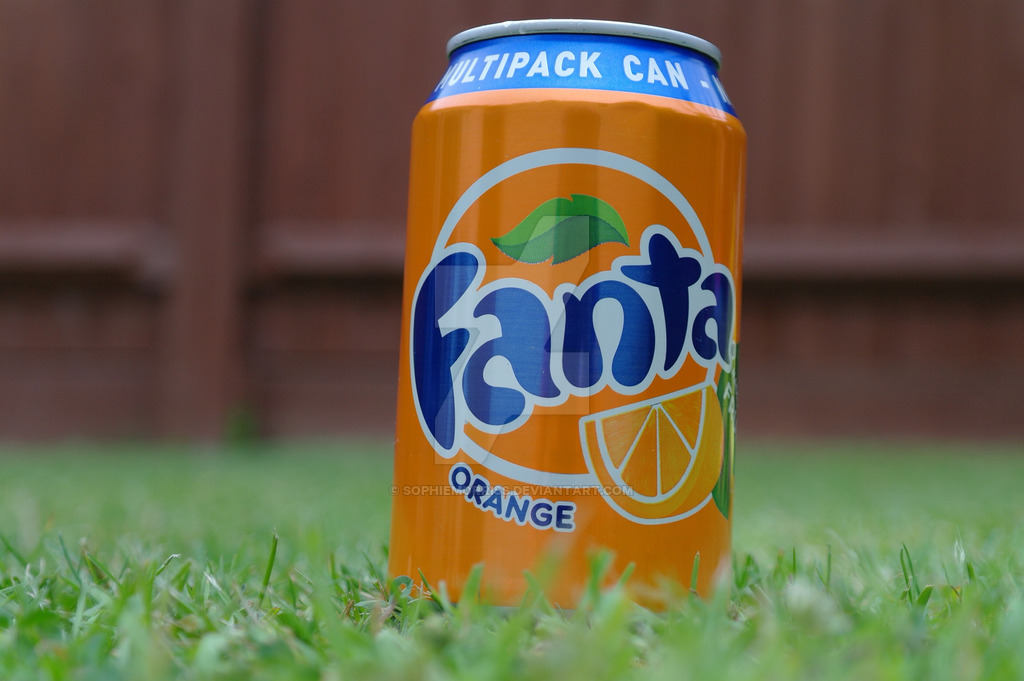fanta: (407, 35, 732, 590)
